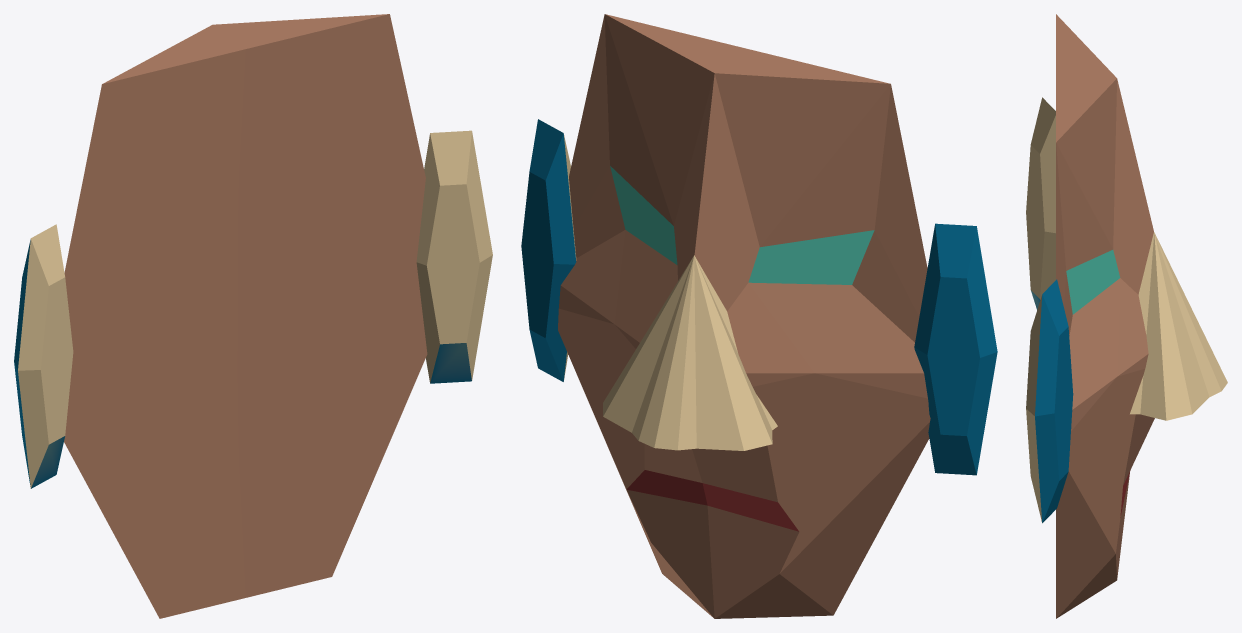
The model's file is ThunderMask 1.fbx.
3 renders of one model, left to right at view 1: azimuth 30°, elevation 25°; view 2: azimuth 150°, elevation 25°; view 3: azimuth 270°, elevation 25°, orthographic. The views are drawn at different scales.
Visible parts, largest first — view 1: Cube, Torus.001; view 2: Cube, Torus.001, Cone, Cube.001, Cube.002; view 3: Cube, Torus.001, Cone, Cube.001.
Part boxes in pixels (x1,y1,x2,y2): Cube: (64,14,427,618); Torus.001: (14,130,492,488); Cube: (558,14,930,618); Torus.001: (521,119,997,475); Cone: (603,255,777,450); Cube.001: (610,166,874,284); Cube.002: (626,470,798,531); Cube: (1056,14,1154,618); Torus.001: (1026,97,1073,523); Cone: (1130,232,1227,420); Cube.001: (1066,250,1120,314).
Bounding box in the file's own units: 822 × 908 × 331.
